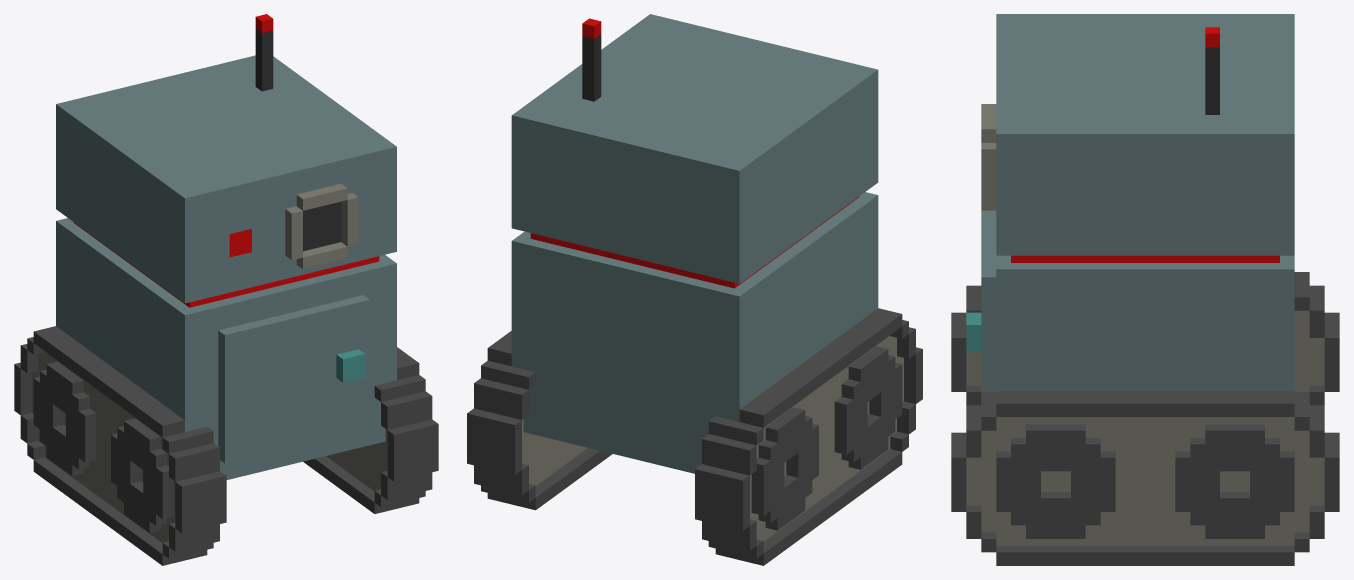
The model's file is Robot.obj.
3 views of the same model, side by side, from view 1: azimuth 30°, elevation 25°; view 2: azimuth 150°, elevation 25°; view 3: azimuth 270°, elevation 25° (orthographic). The views are drawn at different scales.
Size of the model in its own units: 2.3 by 3.7 by 2.6.
